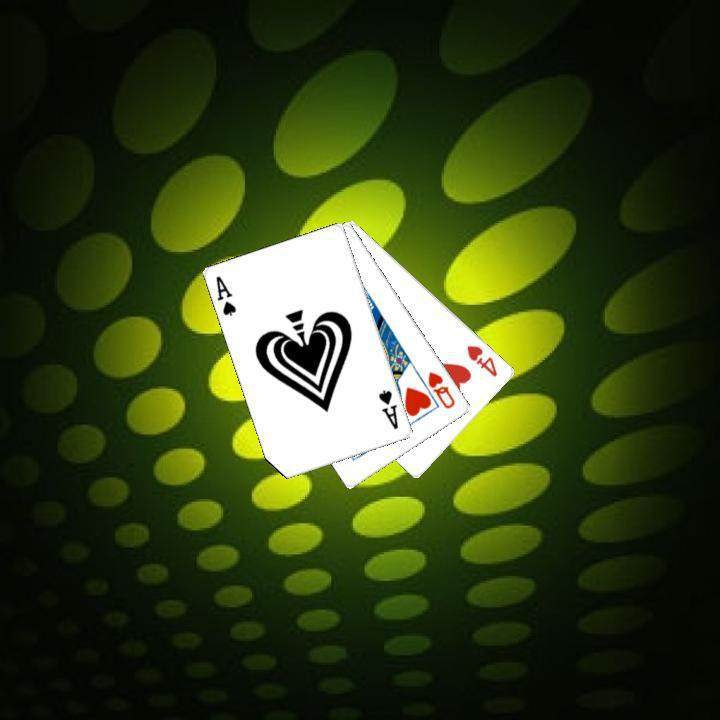4: (463, 341, 500, 379)
A: (212, 271, 239, 318), (375, 386, 401, 431)
Q: (424, 367, 458, 411)
